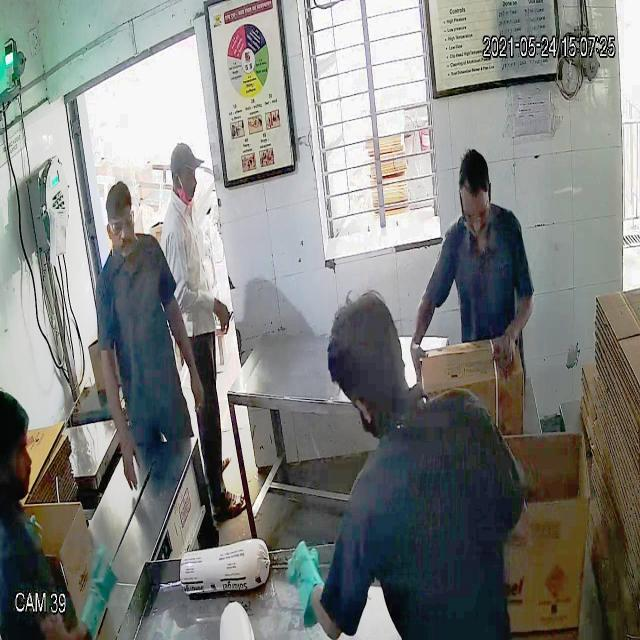glasses: (103, 210, 135, 237)
